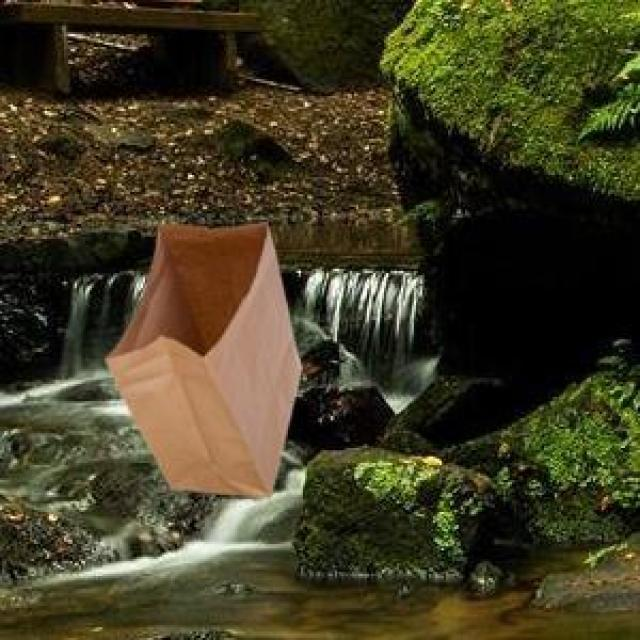paper: (102, 218, 297, 493)
